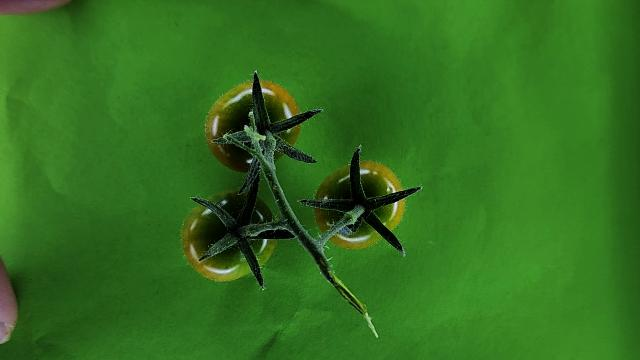Fully Grown: (180, 188, 279, 282), (204, 79, 303, 172), (313, 160, 407, 248)
